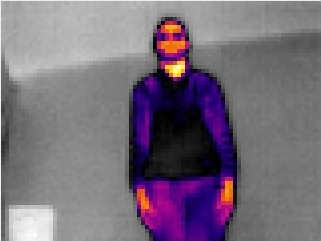human: (128, 17, 238, 241)
